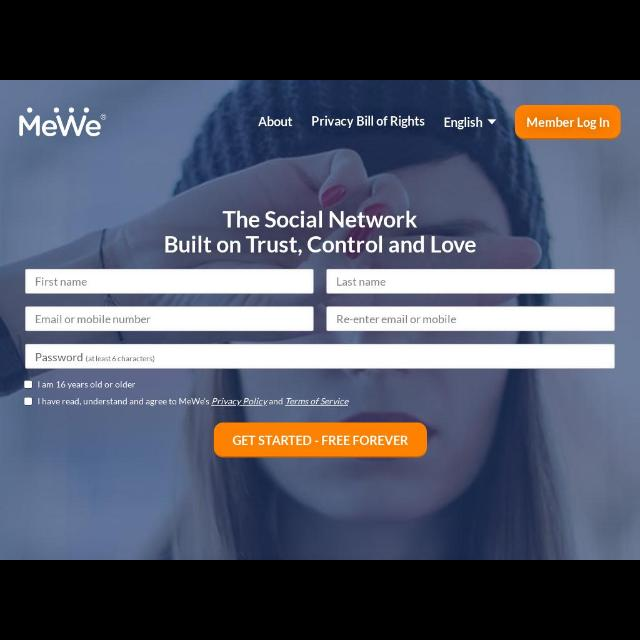checkbox: (24, 381, 32, 389), (23, 398, 31, 406)
icon: (486, 120, 496, 126)
image: (17, 102, 112, 146)
input: (26, 346, 616, 369), (23, 268, 315, 294), (326, 268, 616, 294), (326, 308, 614, 330), (25, 308, 312, 330)
spinner: (444, 114, 498, 134)
text: (165, 208, 477, 260), (36, 398, 352, 406), (312, 114, 426, 130), (334, 313, 460, 325), (36, 352, 158, 364), (35, 314, 153, 324), (36, 382, 138, 390), (33, 276, 89, 288), (337, 276, 387, 286), (447, 116, 481, 130), (259, 117, 295, 129)
textbutton: (213, 417, 429, 457), (516, 105, 618, 142)
